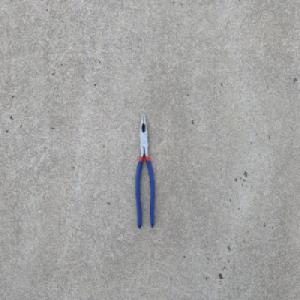Pliers: (134, 111, 156, 231)
